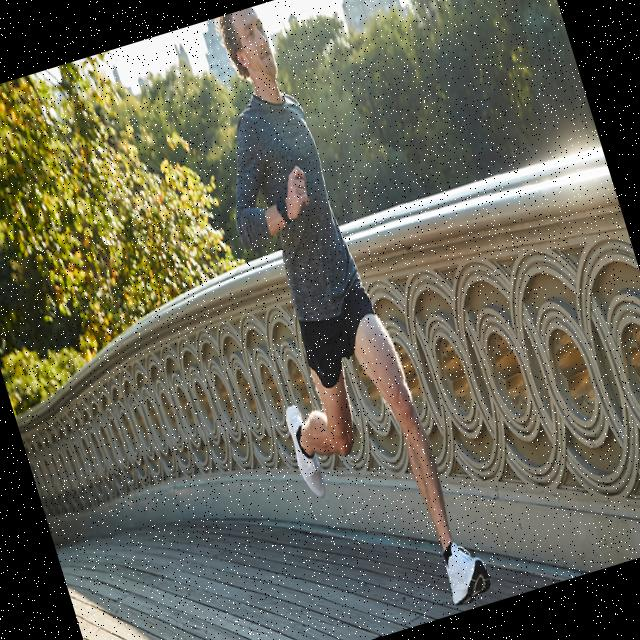Person: (166, 0, 496, 639)
